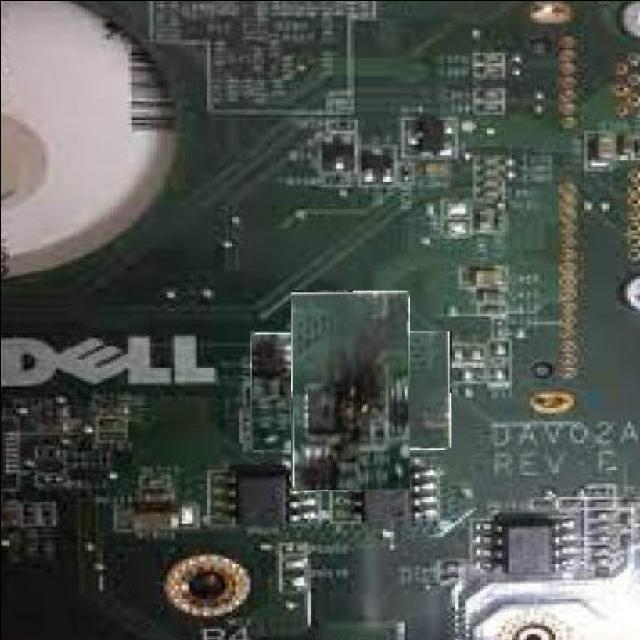damged: (271, 310, 431, 471)
